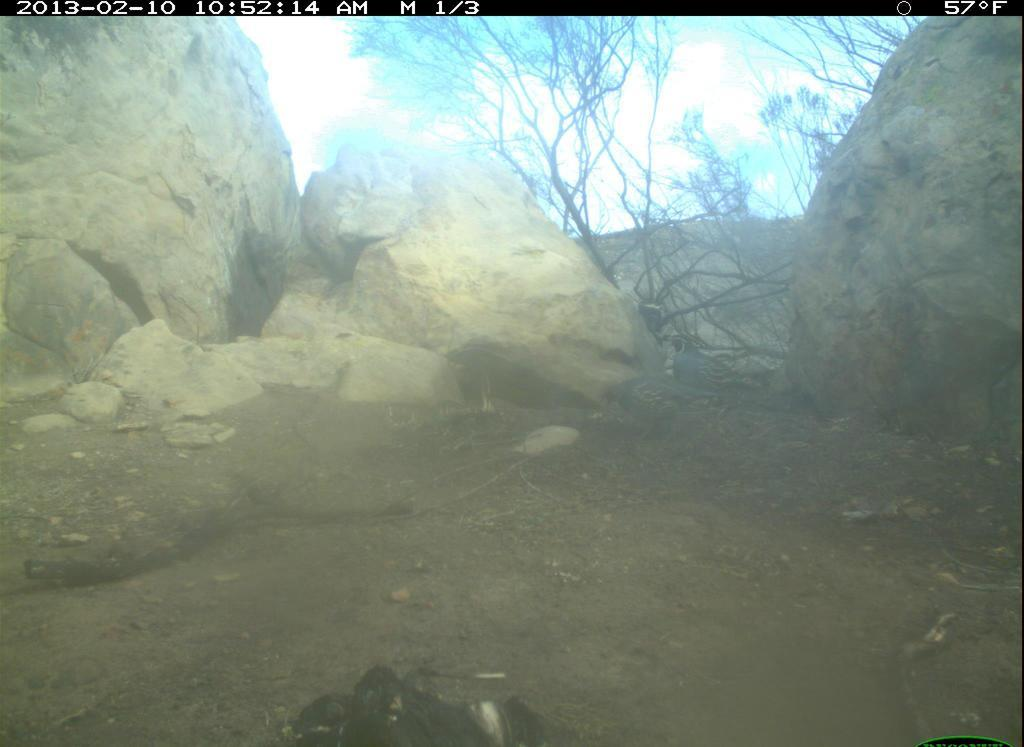bird: (590, 369, 740, 444), (663, 329, 768, 401)
